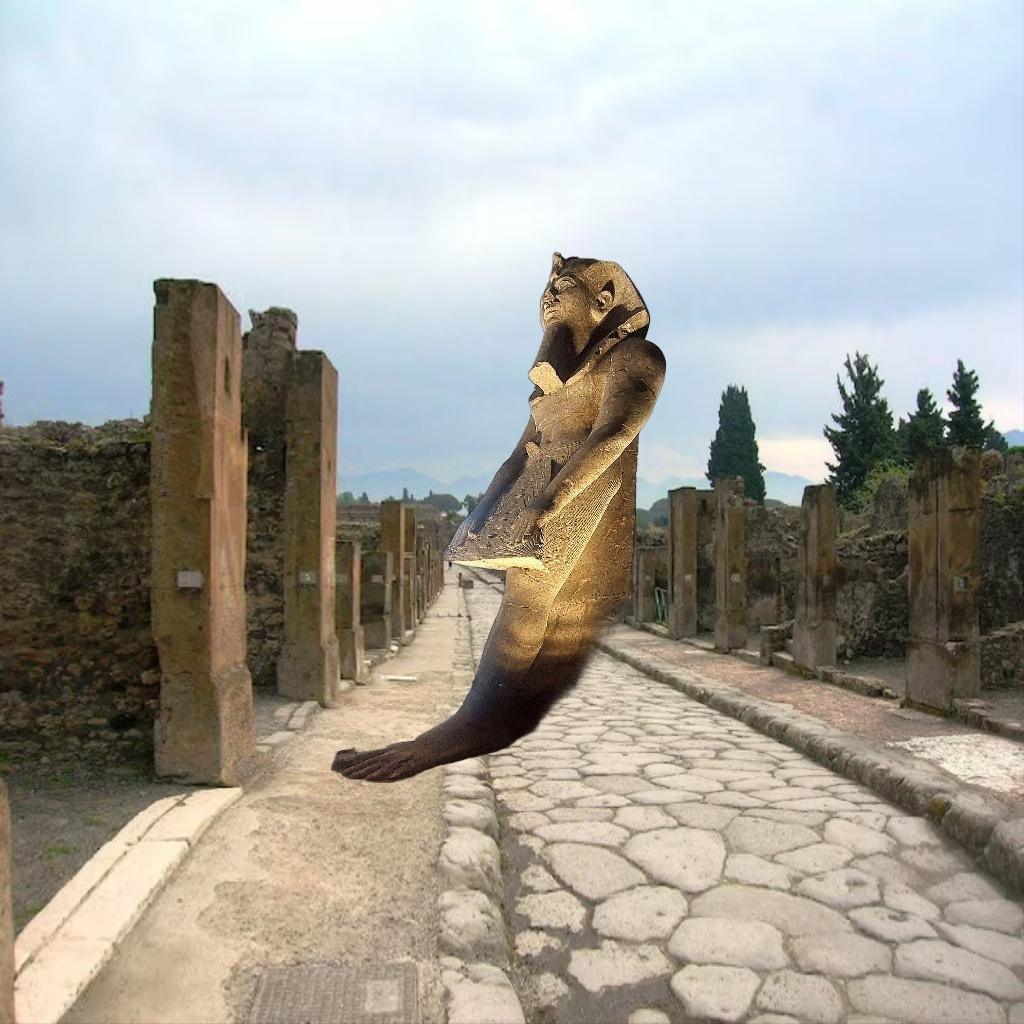Colossal Statue of Queen Hatshepsut: (326, 244, 675, 784)
